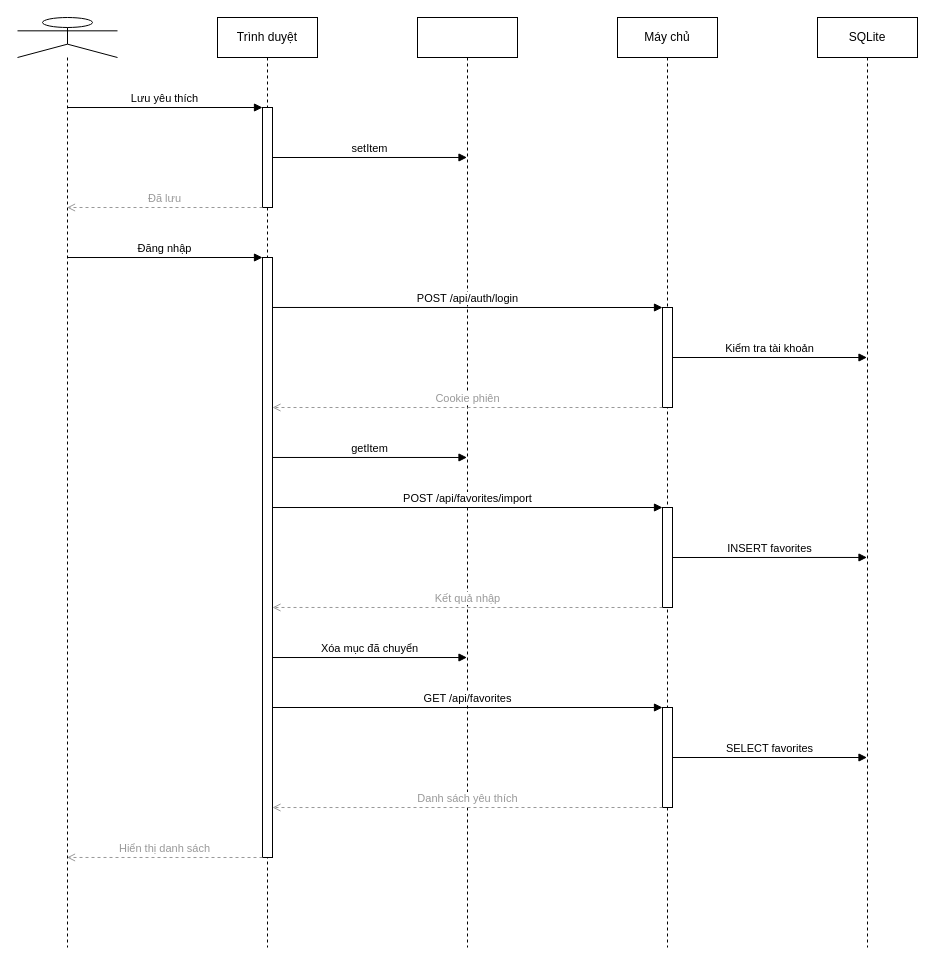
This 935x965 diagram has some shape labels left out. The shapes that lost their labels are listed below. From the top down, each one's box as (x1, y1, x2, y2) in pixels, then its label:
(16, 16, 118, 948): Người dùng
(416, 16, 518, 948): localStorage
